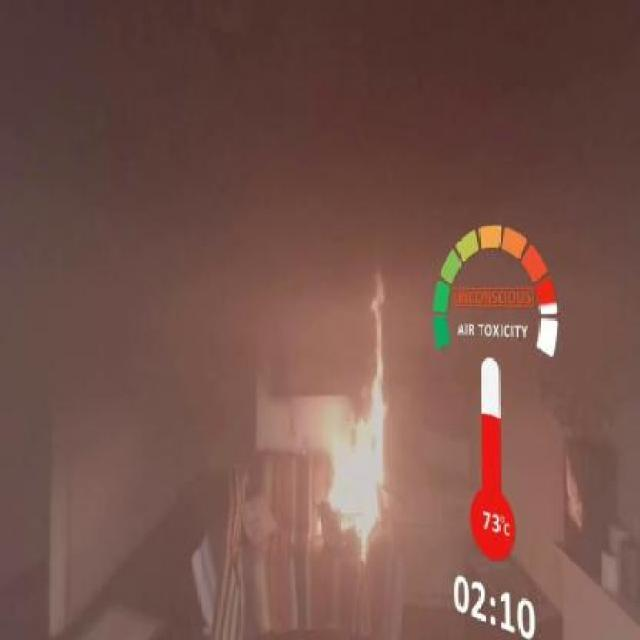fire: (315, 282, 413, 552)
